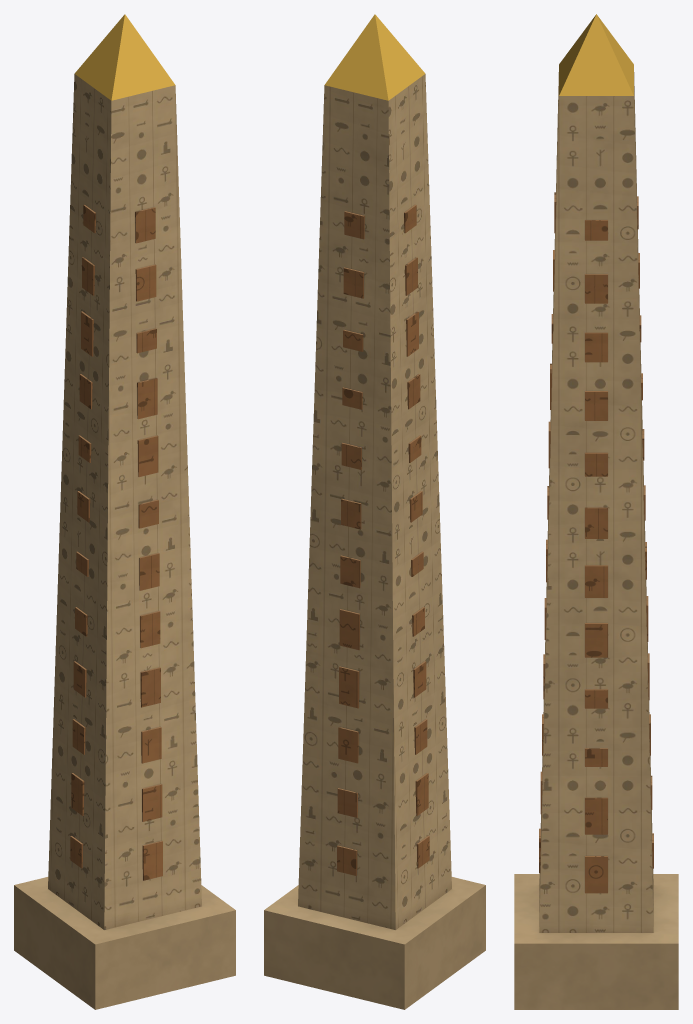
Rendered from obelisk_tex.glb.
The picture shows the model from 3 angles, left to right: view 1: azimuth 30°, elevation 25°; view 2: azimuth 150°, elevation 25°; view 3: azimuth 270°, elevation 25°; orthographic projection.
Visible parts, largest first — view 1: obelisk; view 2: obelisk; view 3: obelisk.
Boxes of the visible parts, x1,y1,x2,y2 form: obelisk: (14, 14, 235, 1009); obelisk: (264, 14, 485, 1009); obelisk: (514, 14, 678, 1009).
Bounding box in the file's own units: 3.6 × 23.2 × 3.6.
Materials: 4 (3 with a texture image).
